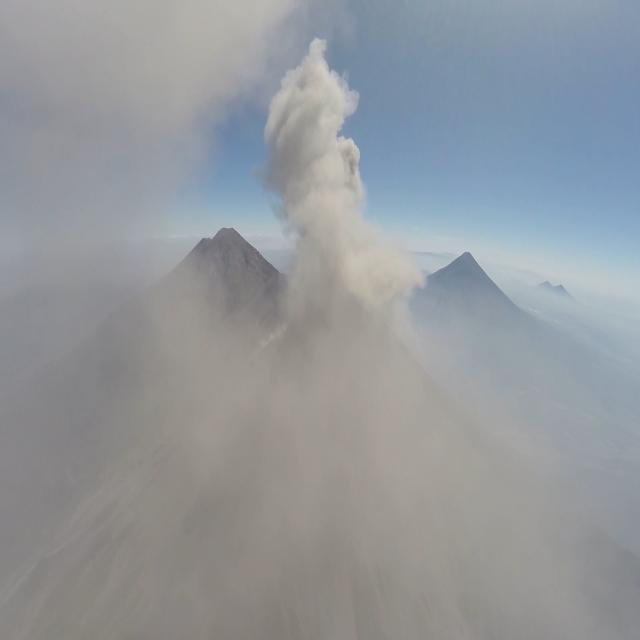Plume: (263, 36, 428, 364)
